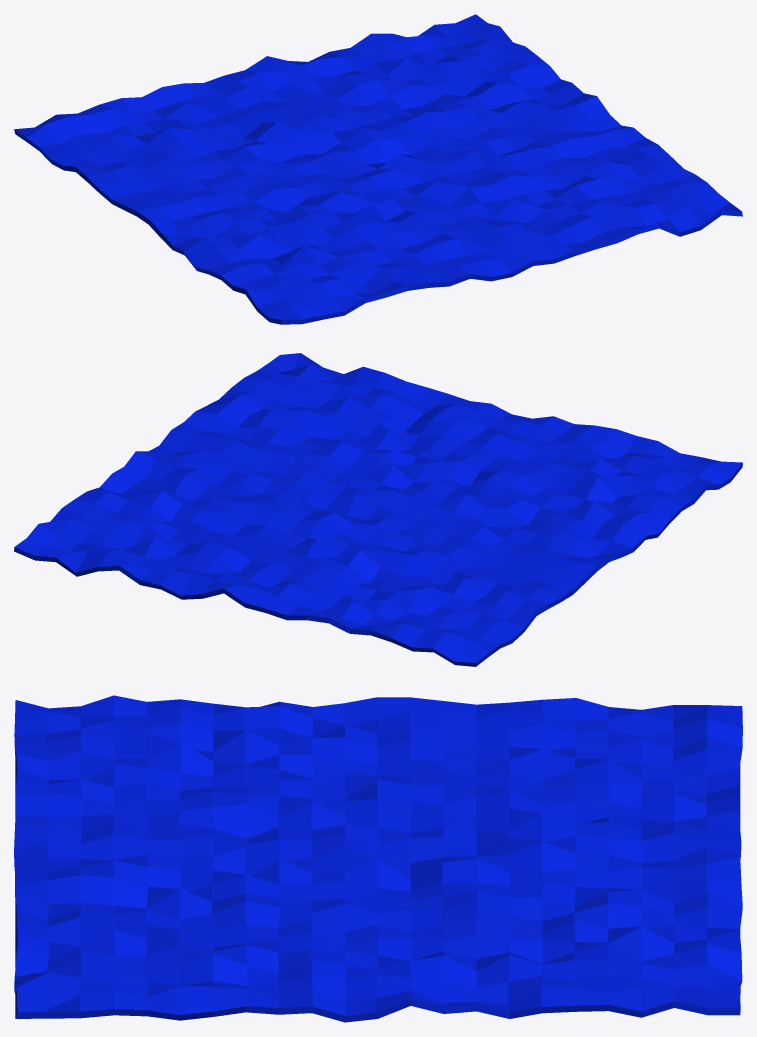
File: Sea.fbx
3 views of the same model, one above another, from view 1: azimuth 30°, elevation 25°; view 2: azimuth 150°, elevation 25°; view 3: azimuth 270°, elevation 25° (orthographic). The views are drawn at different scales.
Parts seen in each view (by area): view 1: Plane; view 2: Plane; view 3: Plane.
Part boxes in pixels (x1,y1,x2,y2): Plane: (14,14,742,324); Plane: (14,353,742,666); Plane: (14,695,742,1022).
Size of the model in its own units: 1415 by 76.33 by 1414.
